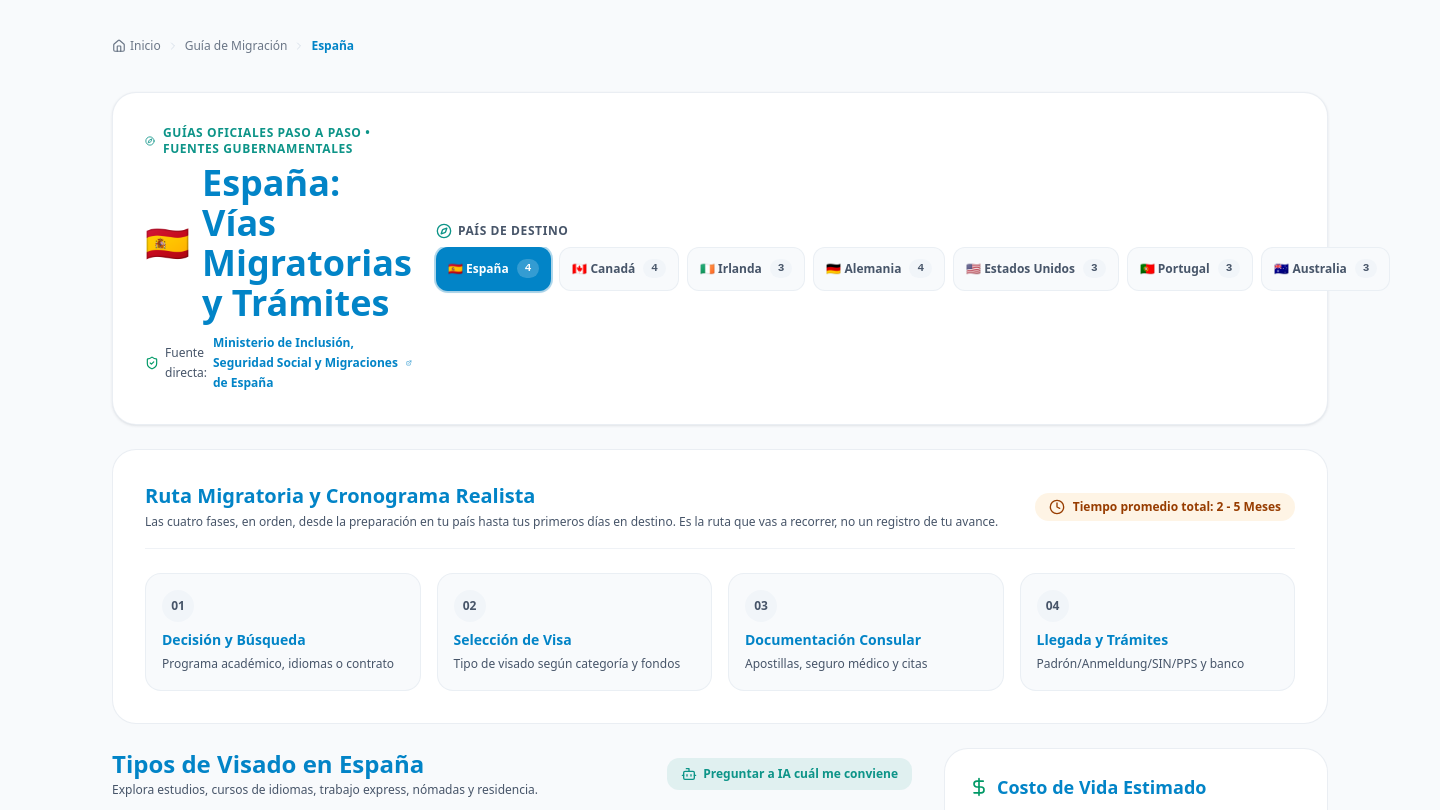
Test case: GuiaMigracion Component › changes country guide when clicking on a different country button
What coordinates should you click on to do the following:
click the button "🇩🇪 Alemania 4"
I would click on:
 (879, 269)
Its box is [813, 247, 945, 291].
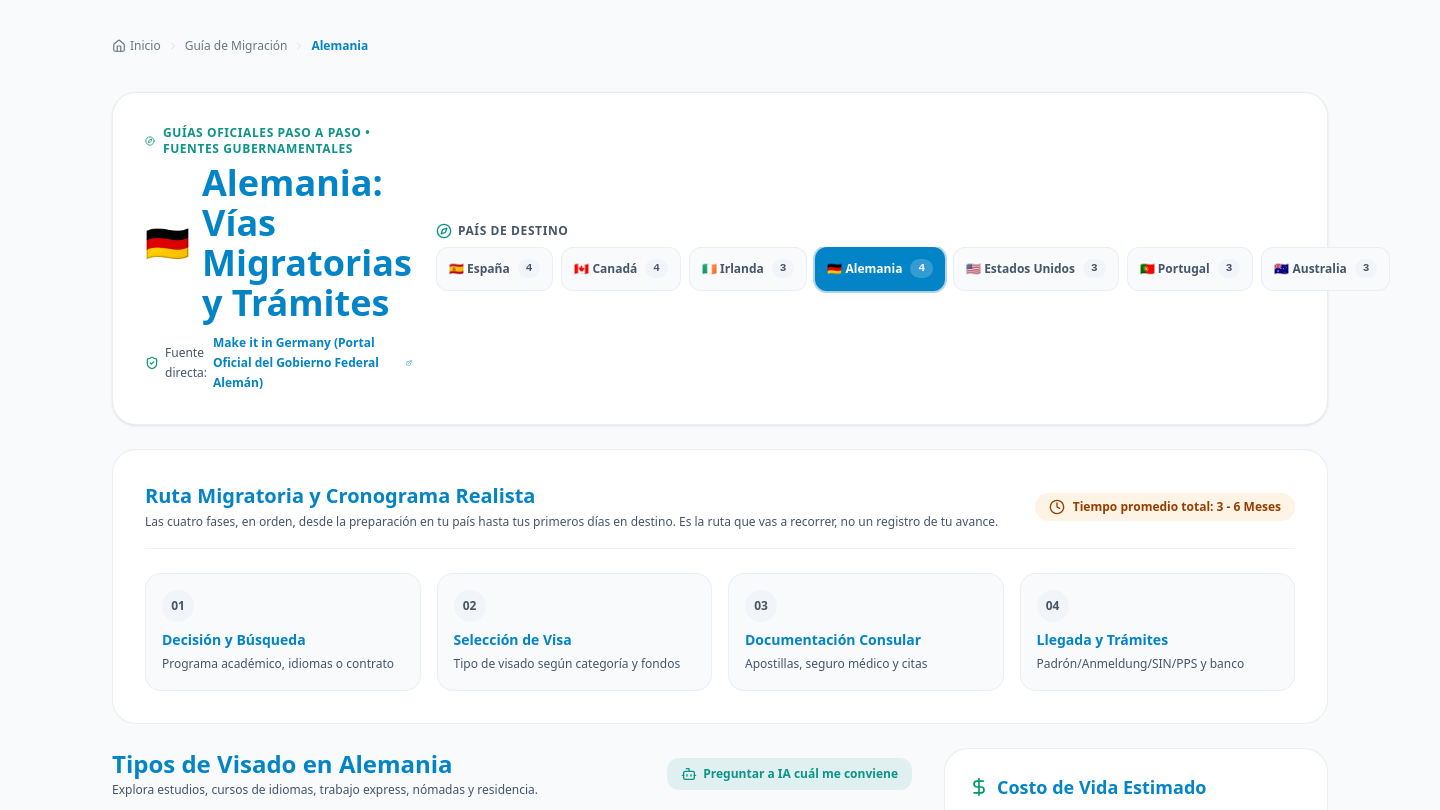
Now the heading "Tipos de Visado en Alemania" is shown, box [112, 747, 453, 780]
